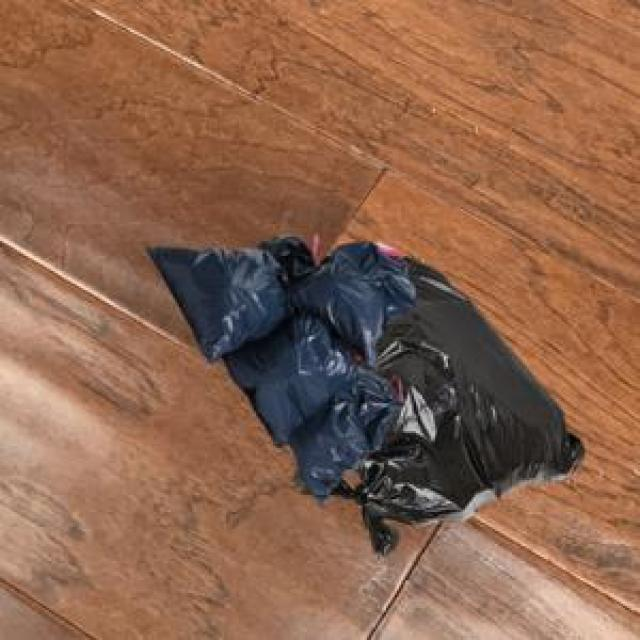waste: (152, 238, 584, 553)
